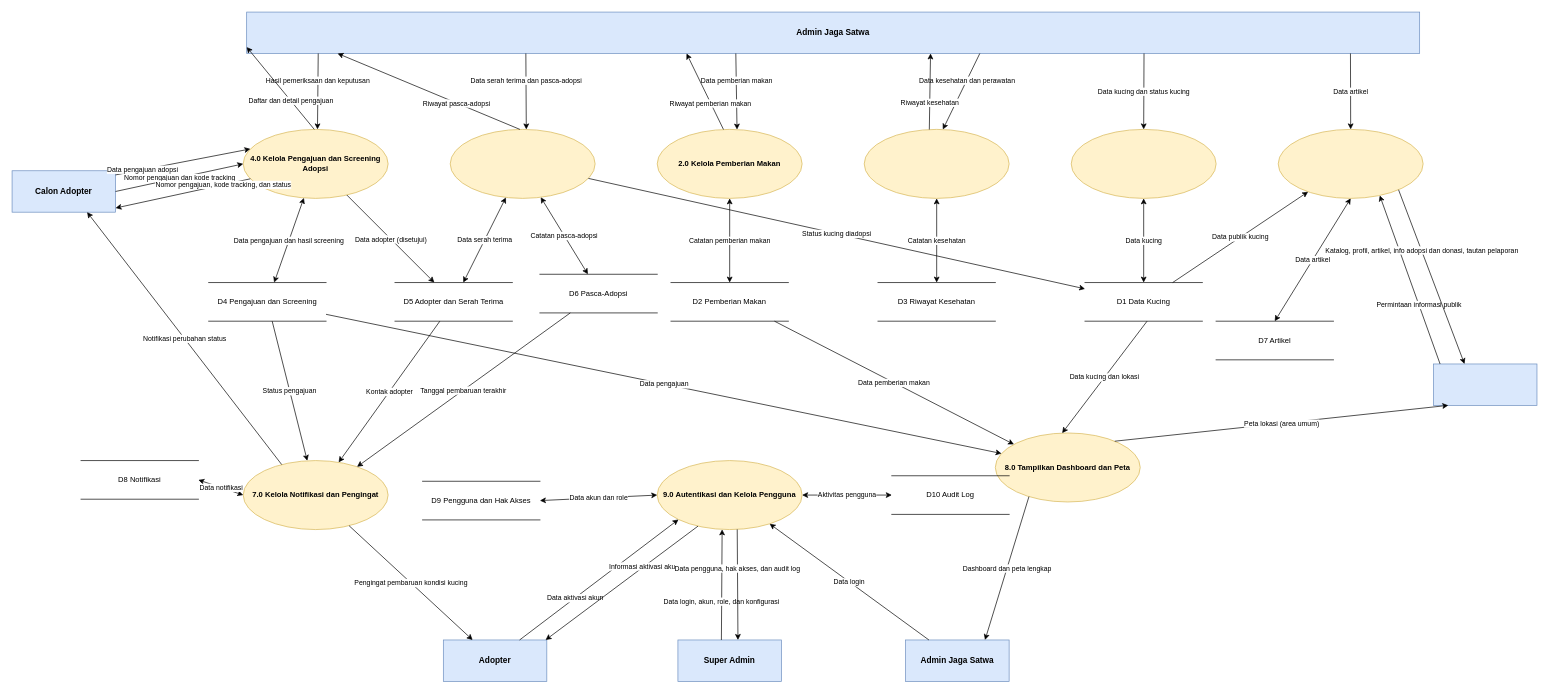
This 1549x693 diagram has some shape labels left out. Each missing label, with the centre of its shape:
1.0 Kelola Data Kucing: the point at 1143,163
3.0 Kelola Kesehatan dan Perawatan: the point at 936,163
5.0 Kelola Serah Terima dan Pasca-Adopsi: the point at 522,163
6.0 Kelola Informasi Publik dan CMS: the point at 1350,163
Visitor: the point at 1485,384
